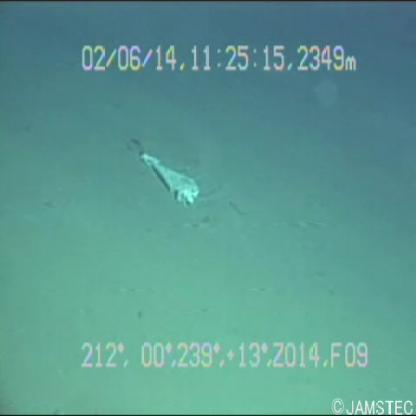Rác: (120, 130, 208, 212)
